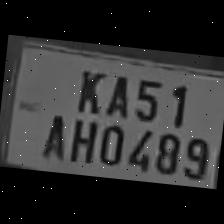0: (92, 117, 125, 167)
1: (162, 78, 193, 128)
4: (122, 120, 155, 172)
5: (127, 74, 164, 122)
8: (150, 127, 182, 178)
9: (179, 132, 213, 182)
A: (36, 107, 69, 162), (100, 68, 132, 120)
H: (64, 113, 98, 166)
K: (69, 63, 107, 118)
